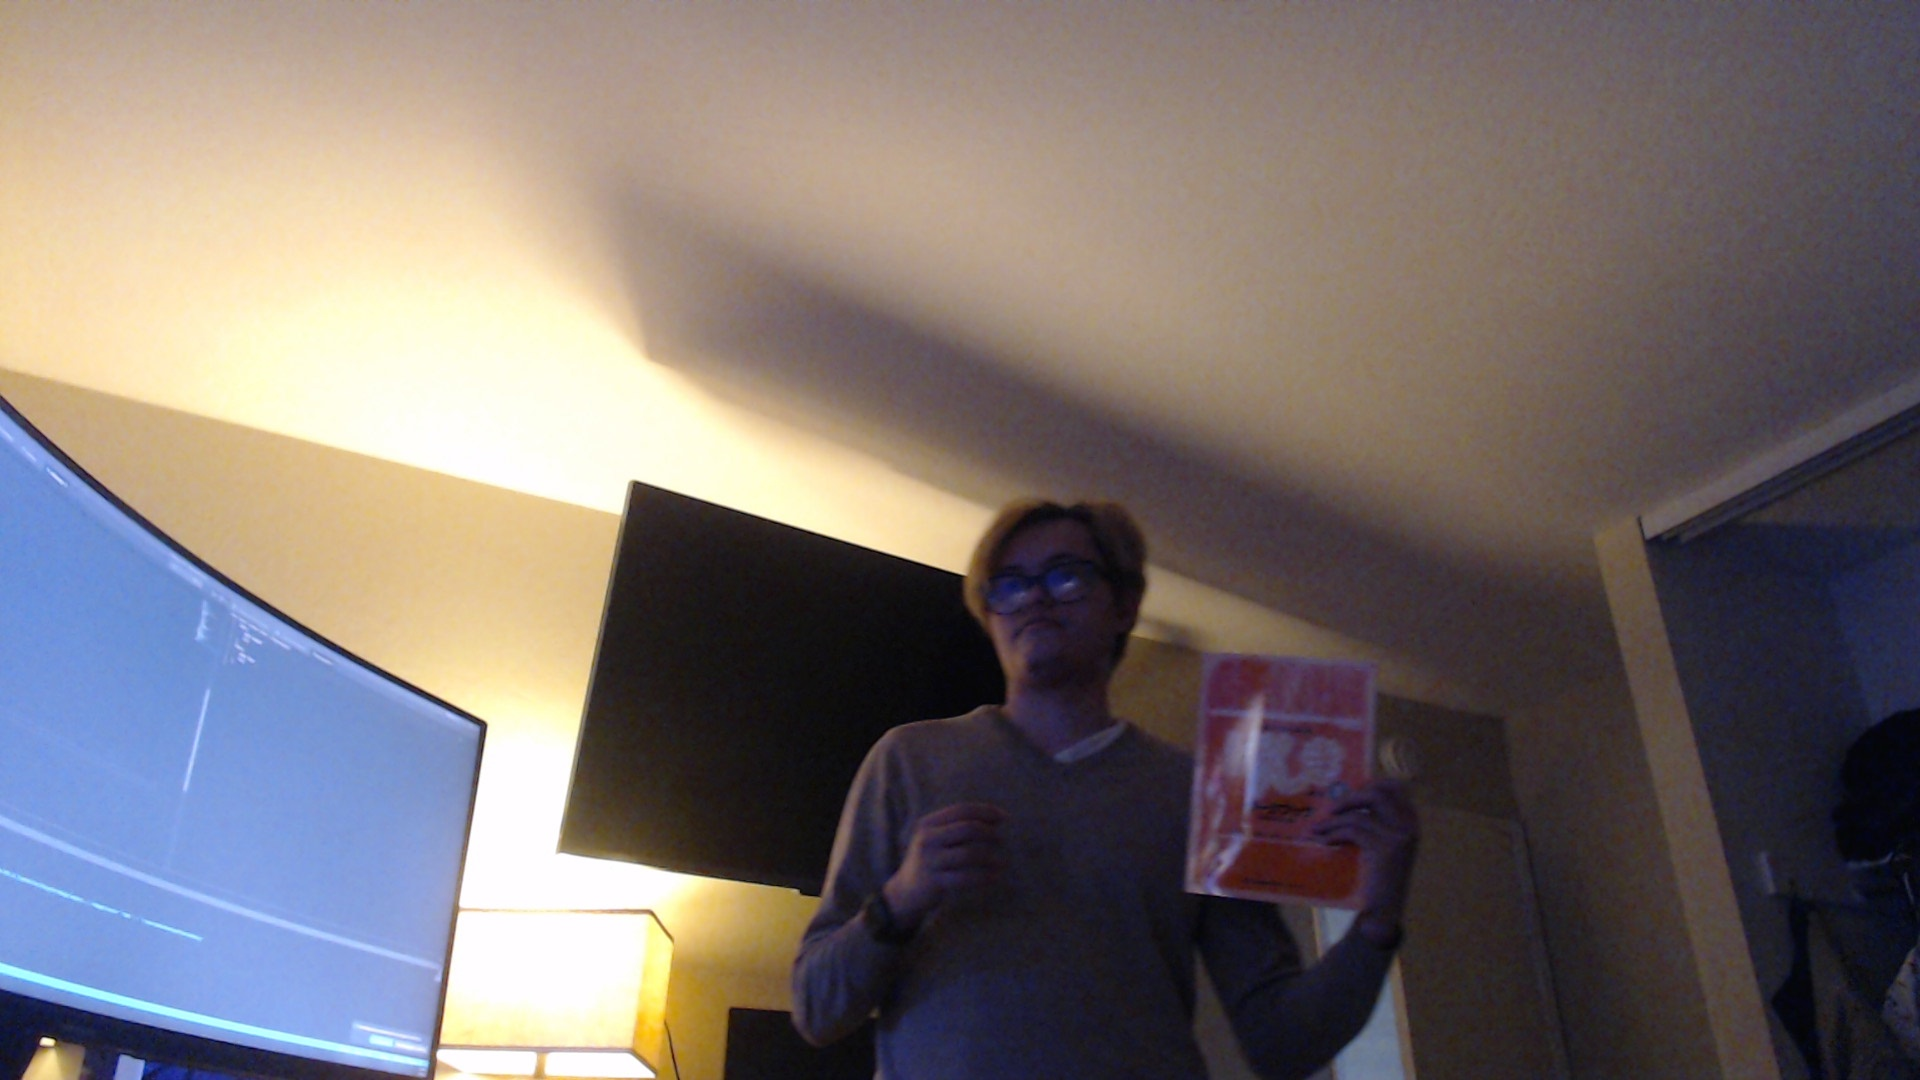book: (1182, 649, 1377, 916)
